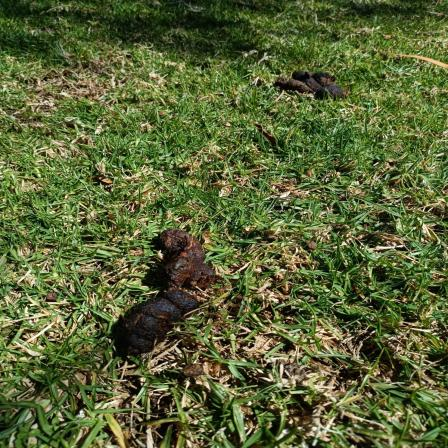dog-poop: (96, 221, 243, 356), (274, 63, 350, 101)
